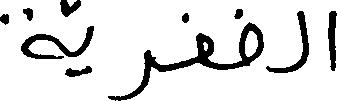X: (0, 0, 64, 63), (115, 45, 151, 100), (240, 4, 263, 71), (196, 28, 213, 73), (327, 6, 336, 75), (298, 6, 307, 73), (84, 21, 91, 78)
